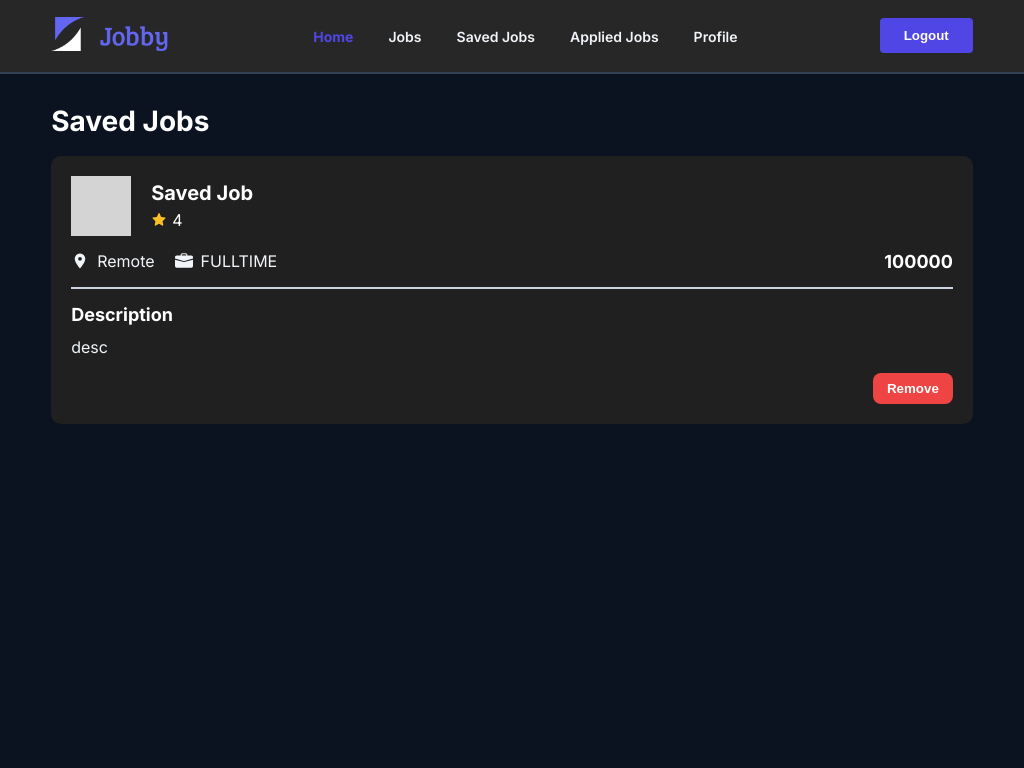
Test case: JobsCollectionPage removal flow › removes a saved job optimistically
Expected: the heading "Saved Job" is shown, [151, 181, 253, 205]
Click the button "Remove" at (913, 388), box [873, 372, 953, 404]
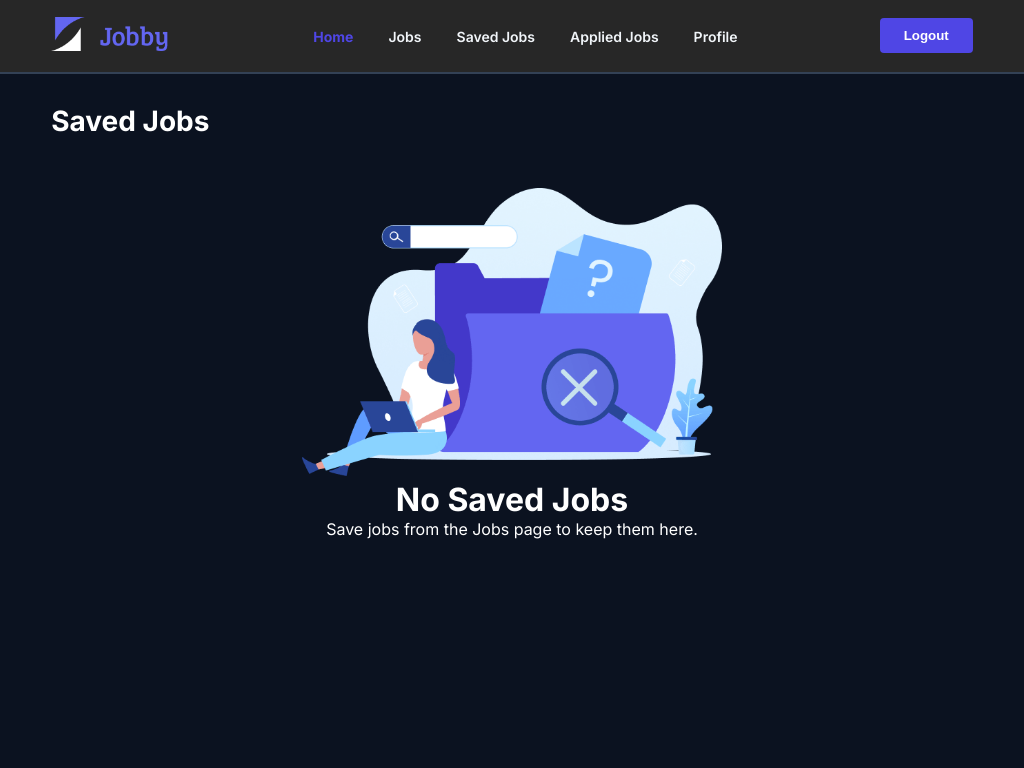
Expected: the text "Saved Job" is not shown
Now the heading "No Saved Jobs" is shown, box [396, 480, 628, 519]
